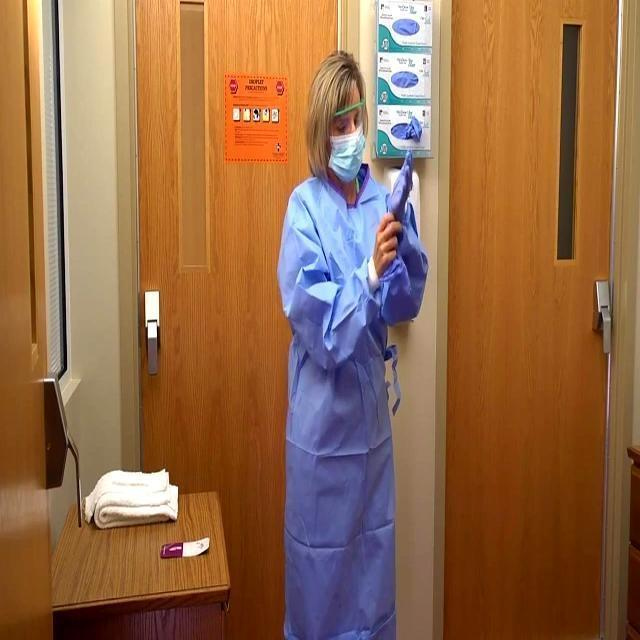no_apron: (372, 217, 414, 279)
